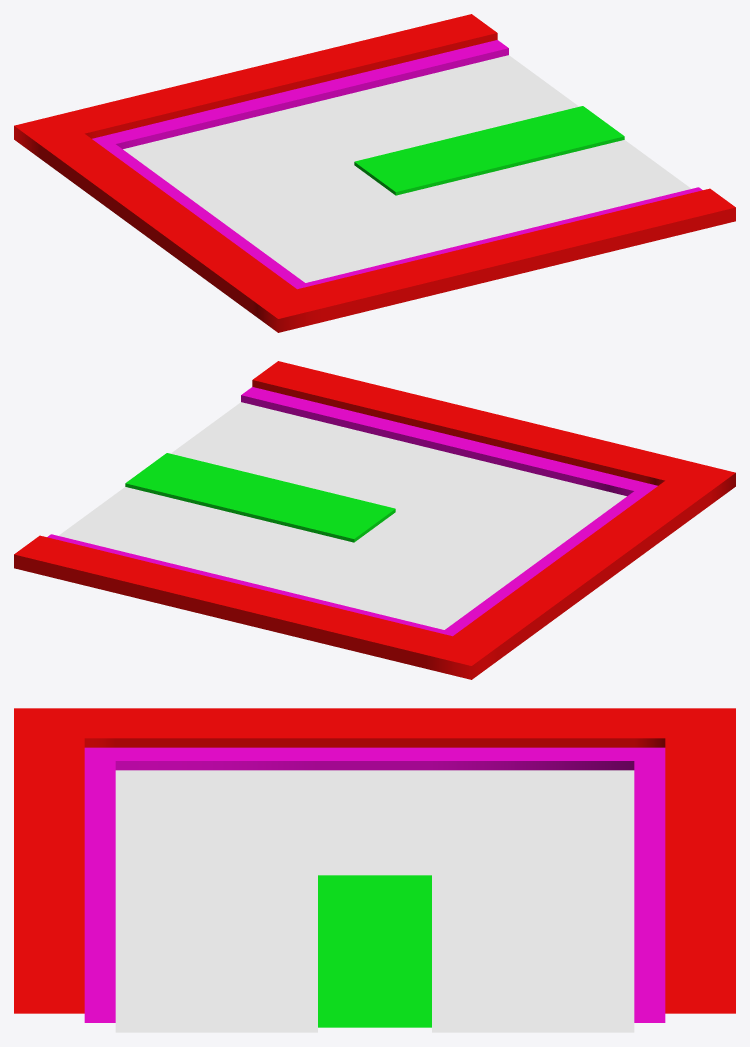
Rendered from Floor-End.fbx.
The picture shows the model from 3 angles, top to bottom: view 1: azimuth 30°, elevation 25°; view 2: azimuth 150°, elevation 25°; view 3: azimuth 270°, elevation 25°; orthographic projection. The views are drawn at different scales.
Parts seen in each view (by area): view 1: End; view 2: End; view 3: End.
Boxes of the visible parts, x1,y1,x2,y2 form: End: (14,14,735,332); End: (14,361,735,679); End: (14,708,735,1032).
Size of the model in its own units: 78.74 by 2.28 by 78.74.
